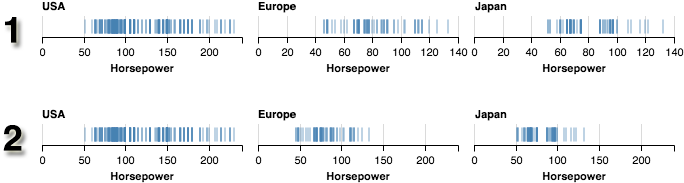

This screenshot's page, from the dashboard's own definition file:
{"tool":"tableau","page":{"name":"Dashboard 1","canvas":[600,350],"ordinal":0},"visuals":[{"type":"worksheet","title":"Sheet 1","mark":"Bar","rows":["Gender"],"cols":["Number"],"box":[0,0,440,147]},{"type":"legend","title":"Sheet 1","param":"[federated.0nu8bq403tzb9z1fh35ge1srv0x0].[none:Gender:nk]","box":[440,0,160,70]},{"type":"legend","title":"Sheet 2","param":"[federated.0nu8bq403tzb9z1fh35ge1srv0x0].[Goal of Evening (group)]","box":[440,70,160,66]},{"type":"worksheet","title":"Sheet 2","mark":"Automatic","rows":["Goal of Evening "],"cols":["Number 2"],"box":[0,147,440,203]}]}

Visuals, with their boxes on the page's 600x350 design canvas (x1, y1, x2, y2). These are canvas units, not pixel positions in the 684x183 screenshot, which may show the page scaled, cropped or inside an application window:
"Sheet 1" worksheet (Bar marks): box(0, 0, 440, 147)
"Sheet 1" legend: box(440, 0, 600, 70)
"Sheet 2" legend: box(440, 70, 600, 136)
"Sheet 2" worksheet: box(0, 147, 440, 350)
